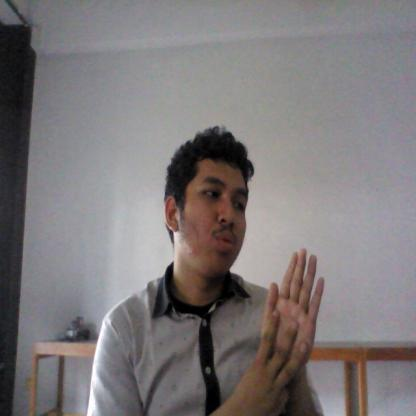M: (238, 246, 330, 416)
